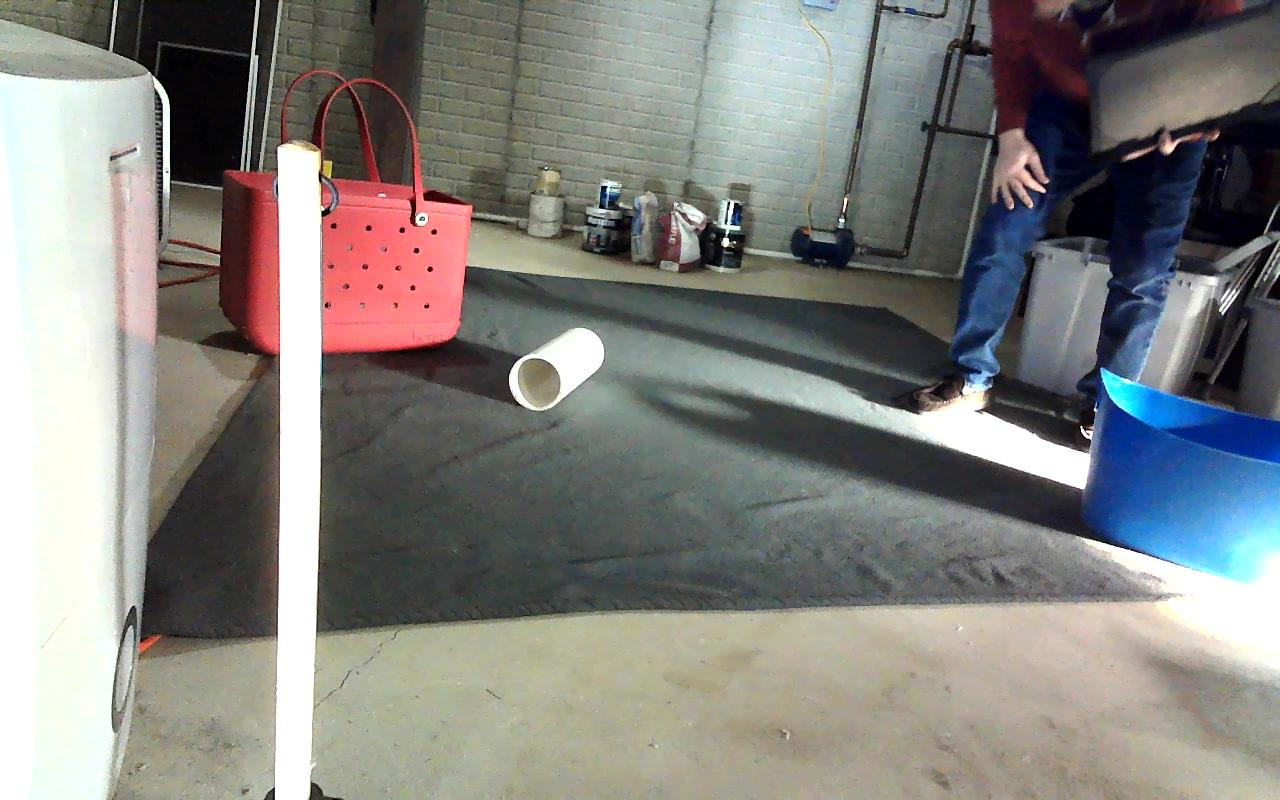coral: (509, 327, 604, 409)
